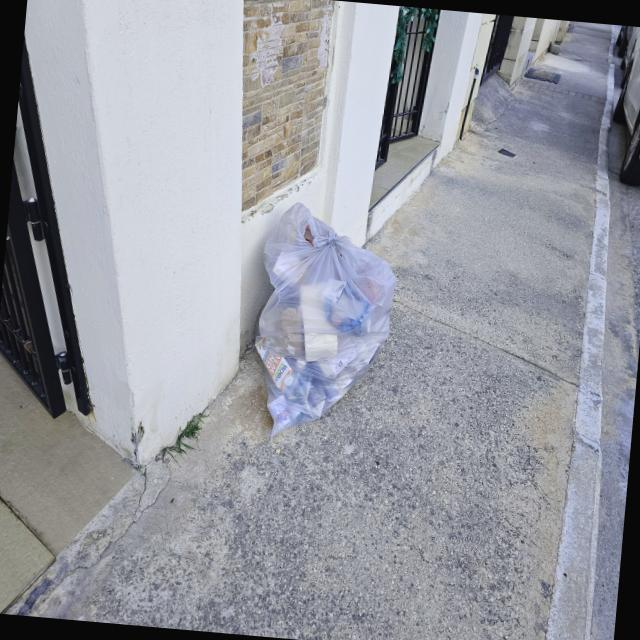grey_bag: (242, 198, 404, 447)
